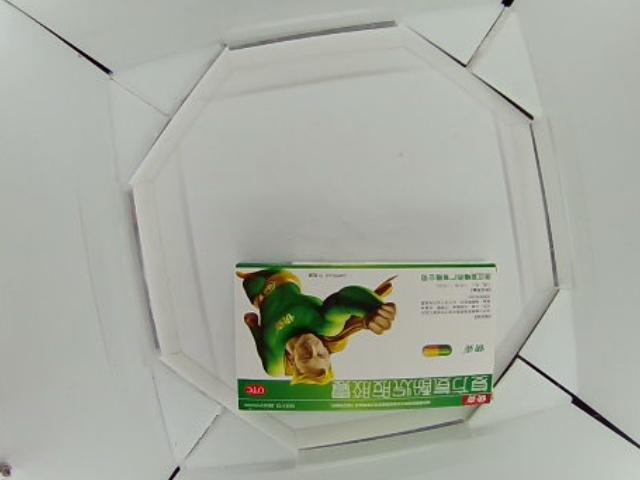Medicine: (234, 261, 494, 410)
